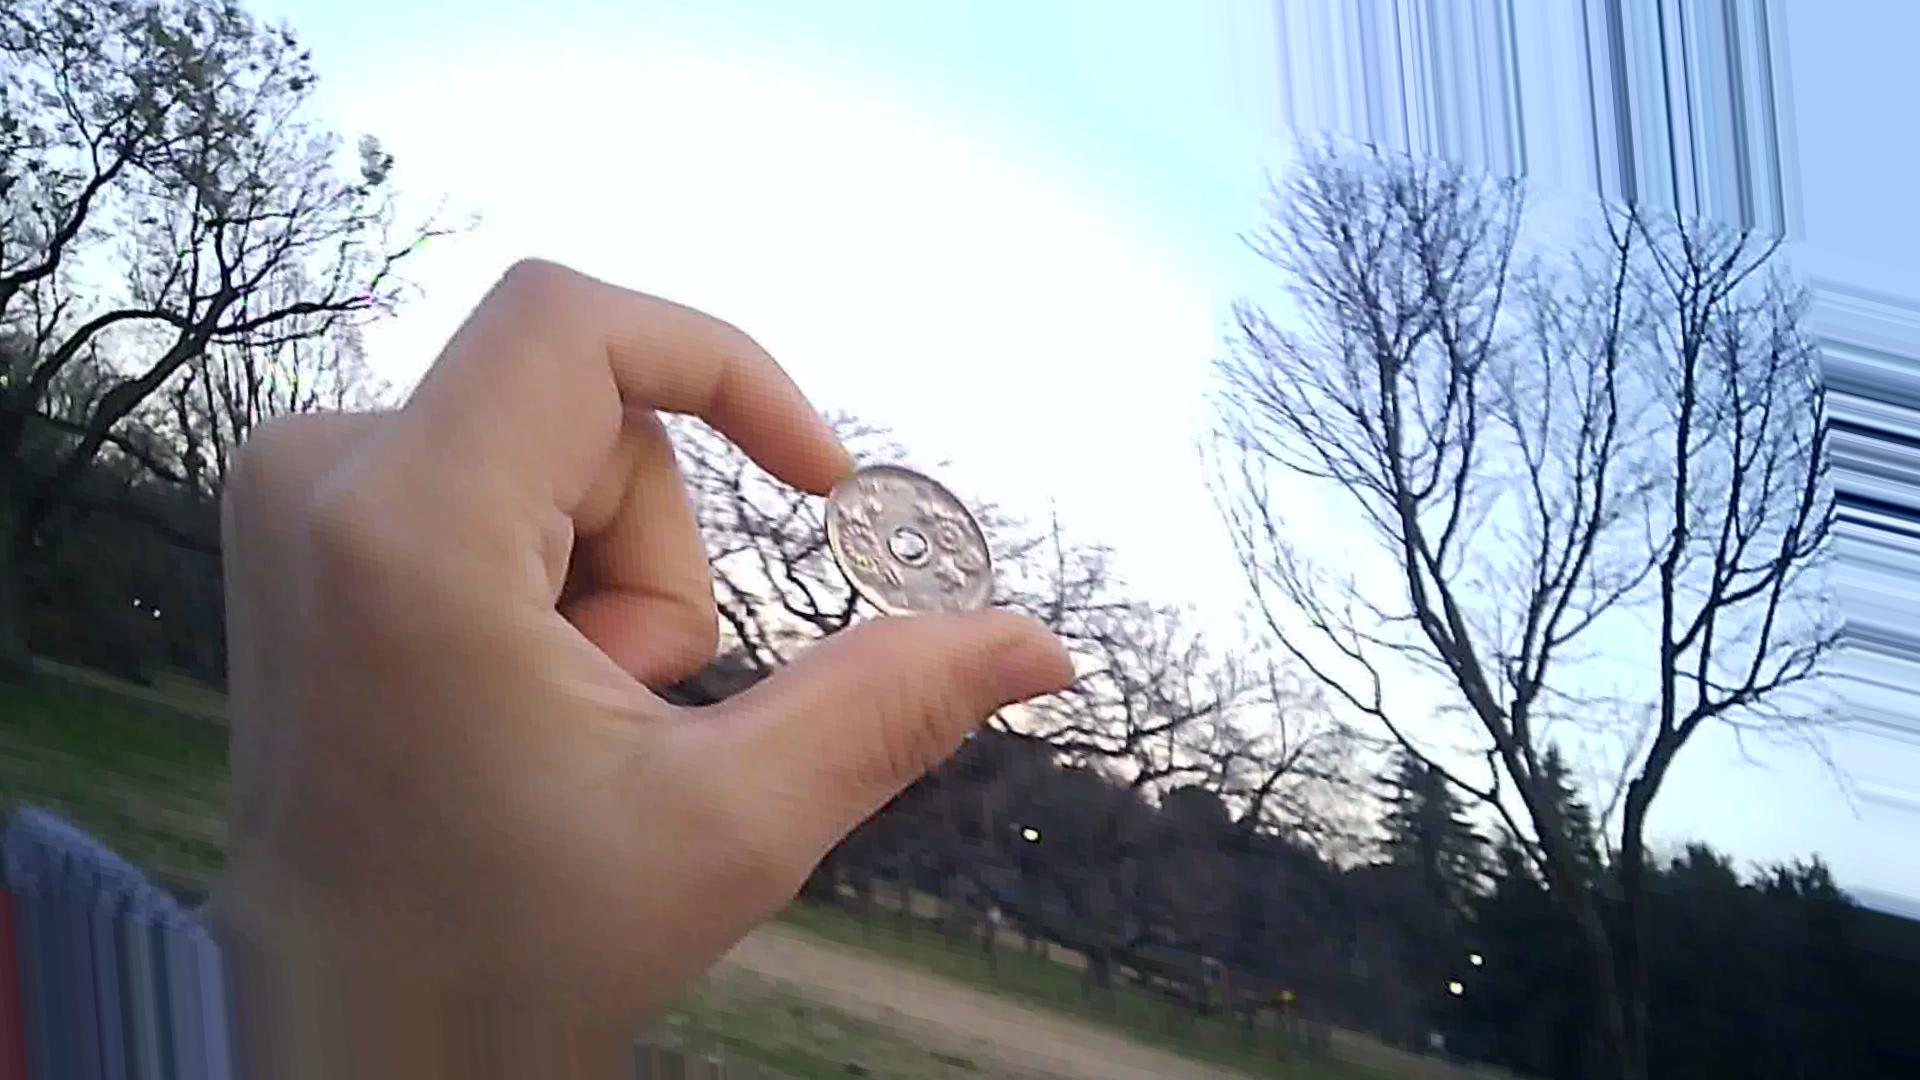50 Yen: (808, 444, 1002, 642)
